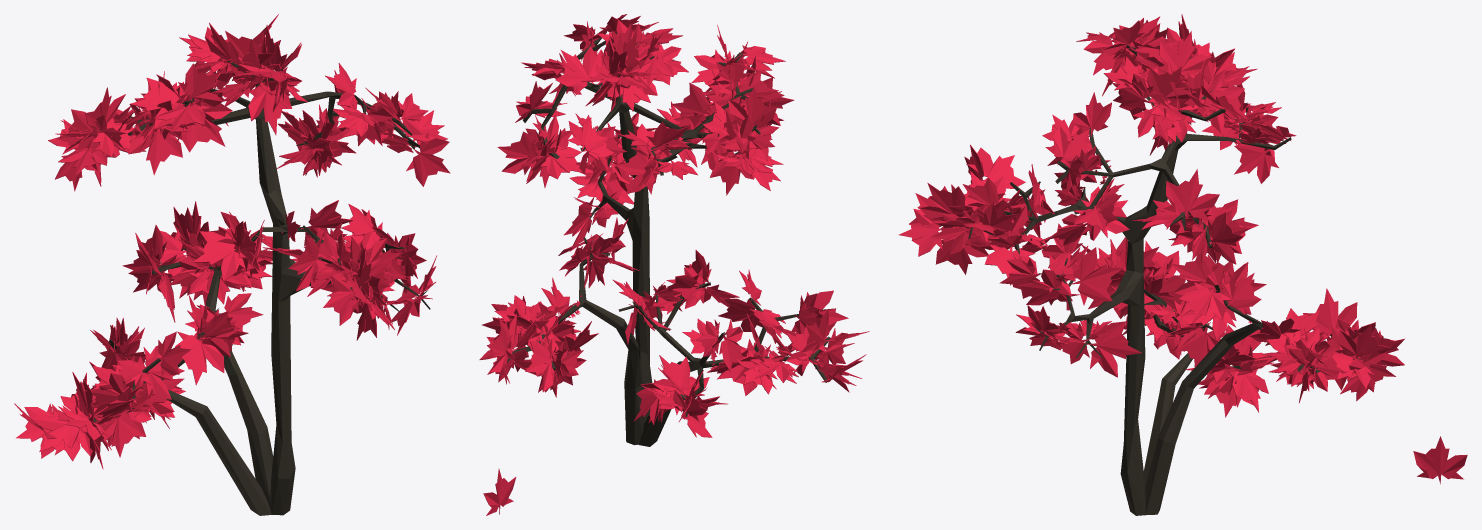
Rendered from treeTwo.fbx.
The picture shows the model from 3 angles, left to right: view 1: azimuth 30°, elevation 25°; view 2: azimuth 150°, elevation 25°; view 3: azimuth 270°, elevation 25°; orthographic projection. The views are drawn at different scales.
Visible parts, largest first — view 1: Cube, Cube|Cube.001|Dupli|353, Cube|Cube.001|Dupli|964, Cube|Cube.001|Dupli|387, Cube|Cube.001|Dupli|304, Cube|Cube.001|Dupli|846, Cube|Cube.001|Dupli|987, Cube|Cube.001|Dupli|866, Cube|Cube.001|Dupli|321, Cube|Cube.001|Dupli|308, Cube|Cube.001|Dupli|305, Cube|Cube.001|Dupli|963 (+32 smaller); view 2: Cube, Cube|Cube.001|Dupli|903, Cube|Cube.001|Dupli|883, Cube|Cube.001|Dupli|311, Cube|Cube.001|Dupli|372, Cube|Cube.001|Dupli|726, Cube|Cube.001|Dupli|835, Cube|Cube.001|Dupli|926, Cube|Cube.001|Dupli|997, Cube|Cube.001|Dupli|836, Cube|Cube.001|Dupli|813, Cube|Cube.001|Dupli|618 (+36 smaller); view 3: Cube, Cube|Cube.001|Dupli|221, Cube|Cube.001|Dupli|843, Cube|Cube.001|Dupli|721, Cube.001, Cube|Cube.001|Dupli|893, Cube|Cube.001|Dupli|346, Cube|Cube.001|Dupli|355, Cube|Cube.001|Dupli|196, Cube|Cube.001|Dupli|276, Cube|Cube.001|Dupli|728, Cube|Cube.001|Dupli|835 (+28 smaller).
Part boxes in pixels (x1=…): Cube: x1=88, y1=61, x2=430, y2=515; Cube|Cube.001|Dupli|353: x1=193, y1=228, x2=248, y2=281; Cube|Cube.001|Dupli|964: x1=175, y1=331, x2=224, y2=385; Cube|Cube.001|Dupli|387: x1=31, y1=404, x2=80, y2=461; Cube|Cube.001|Dupli|304: x1=128, y1=126, x2=182, y2=175; Cube|Cube.001|Dupli|846: x1=406, y1=132, x2=450, y2=186; Cube|Cube.001|Dupli|987: x1=96, y1=411, x2=146, y2=457; Cube|Cube.001|Dupli|866: x1=178, y1=63, x2=222, y2=111; Cube|Cube.001|Dupli|321: x1=248, y1=83, x2=291, y2=134; Cube|Cube.001|Dupli|308: x1=129, y1=78, x2=185, y2=129; Cube|Cube.001|Dupli|305: x1=181, y1=91, x2=232, y2=152; Cube|Cube.001|Dupli|963: x1=196, y1=311, x2=248, y2=356; Cube: x1=507, y1=32, x2=830, y2=446; Cube|Cube.001|Dupli|903: x1=555, y1=46, x2=605, y2=95; Cube|Cube.001|Dupli|883: x1=728, y1=86, x2=776, y2=128; Cube|Cube.001|Dupli|311: x1=615, y1=145, x2=661, y2=194; Cube|Cube.001|Dupli|372: x1=652, y1=355, x2=695, y2=399; Cube|Cube.001|Dupli|726: x1=671, y1=82, x2=710, y2=132; Cube|Cube.001|Dupli|835: x1=497, y1=131, x2=543, y2=174; Cube|Cube.001|Dupli|926: x1=525, y1=338, x2=554, y2=391; Cube|Cube.001|Dupli|997: x1=718, y1=298, x2=763, y2=331; Cube|Cube.001|Dupli|836: x1=540, y1=144, x2=582, y2=179; Cube|Cube.001|Dupli|813: x1=566, y1=117, x2=606, y2=154; Cube|Cube.001|Dupli|618: x1=719, y1=319, x2=743, y2=372; Cube: x1=968, y1=45, x2=1360, y2=515; Cube|Cube.001|Dupli|221: x1=1069, y1=247, x2=1123, y2=305; Cube|Cube.001|Dupli|843: x1=1163, y1=169, x2=1219, y2=220; Cube|Cube.001|Dupli|721: x1=1087, y1=320, x2=1141, y2=377; Cube.001: x1=1413, y1=436, x2=1467, y2=484; Cube|Cube.001|Dupli|893: x1=1156, y1=31, x2=1211, y2=78; Cube|Cube.001|Dupli|346: x1=1303, y1=288, x2=1357, y2=336; Cube|Cube.001|Dupli|355: x1=1178, y1=282, x2=1232, y2=323; Cube|Cube.001|Dupli|196: x1=919, y1=182, x2=972, y2=226; Cube|Cube.001|Dupli|276: x1=1234, y1=141, x2=1278, y2=183; Cube|Cube.001|Dupli|728: x1=966, y1=147, x2=1025, y2=194; Cube|Cube.001|Dupli|835: x1=1207, y1=212, x2=1243, y2=264.
Size of what is drawn, in the model's own units: 1345 by 1527 by 1708.
